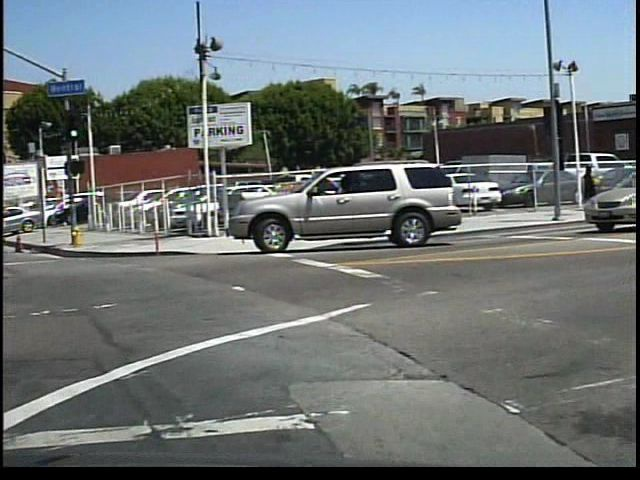person: (580, 162, 602, 214)
